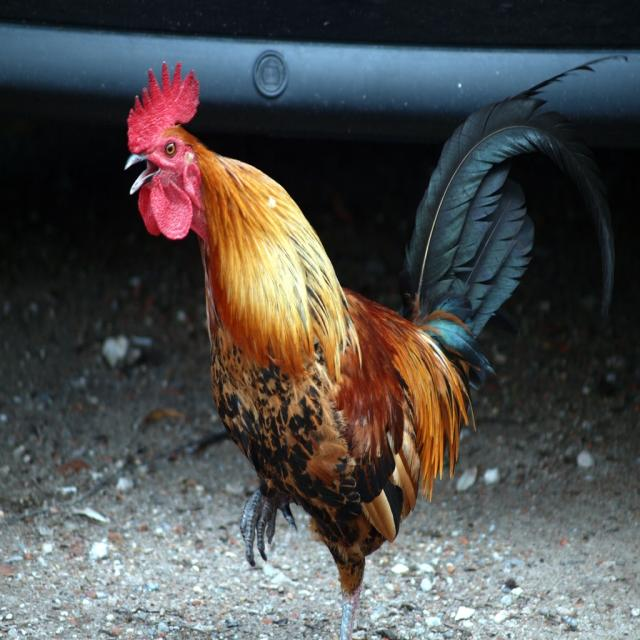Chicken: (126, 64, 618, 621)
